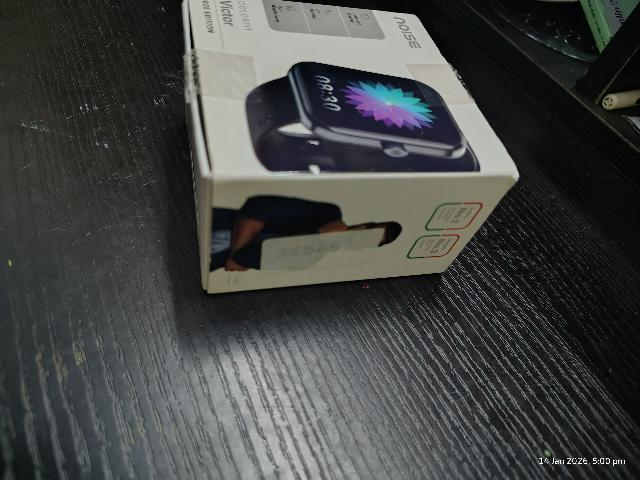noise victor smartwatch: (181, 0, 516, 291)
